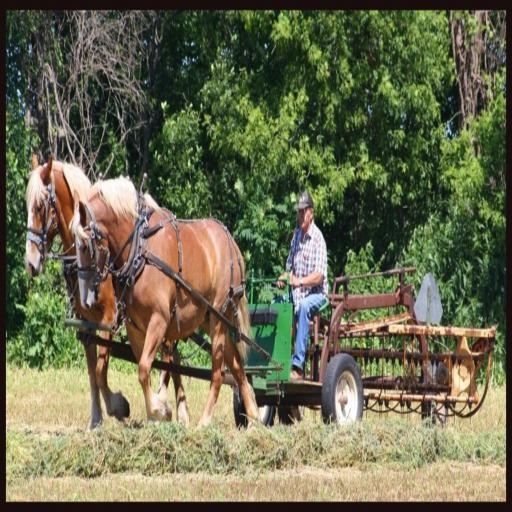horse: (66, 178, 262, 423), (24, 152, 190, 428)
